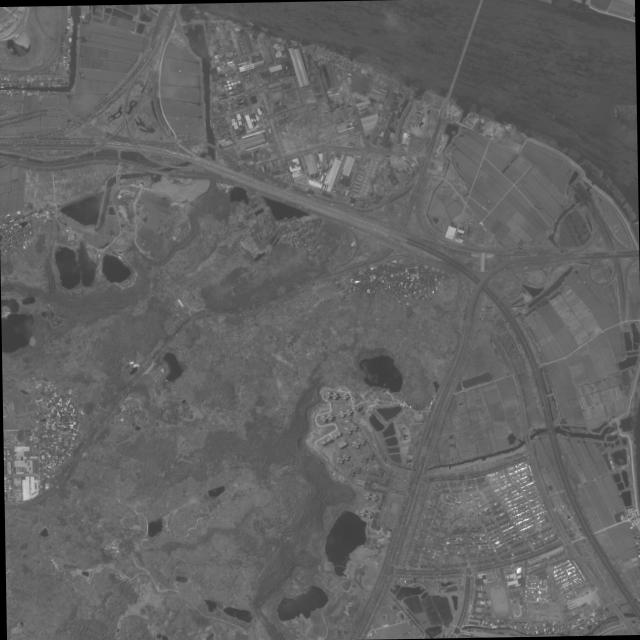ship: (501, 119, 511, 126), (544, 112, 554, 118), (546, 111, 554, 116), (259, 25, 267, 30), (572, 130, 578, 136), (342, 49, 350, 53), (246, 20, 254, 24), (374, 55, 380, 59), (245, 21, 250, 25), (260, 27, 265, 31)
storage-tank: (228, 78, 232, 81), (223, 86, 227, 89), (222, 83, 226, 86), (216, 108, 219, 112), (211, 90, 215, 93), (212, 86, 215, 90), (204, 25, 207, 28), (225, 79, 228, 82), (230, 81, 233, 84), (233, 80, 236, 83), (236, 79, 239, 82), (226, 82, 229, 85), (227, 85, 230, 88), (207, 22, 210, 25), (205, 28, 208, 31), (212, 83, 215, 86), (204, 21, 206, 24)
